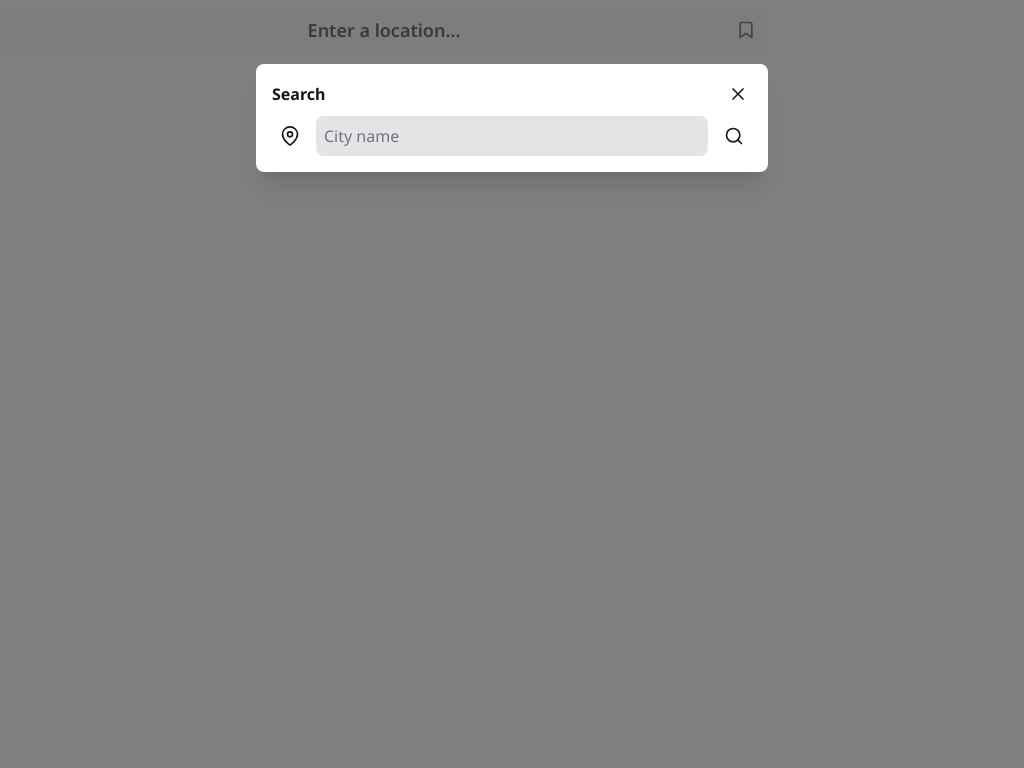
HomeContent › manual city search › searches and renders WeatherCard on submit
The image size is (1024, 768).
Type "Tokyo" into the field with placeholder "City name".
click(512, 136); type("Tokyo")  # box [316,116,708,156]
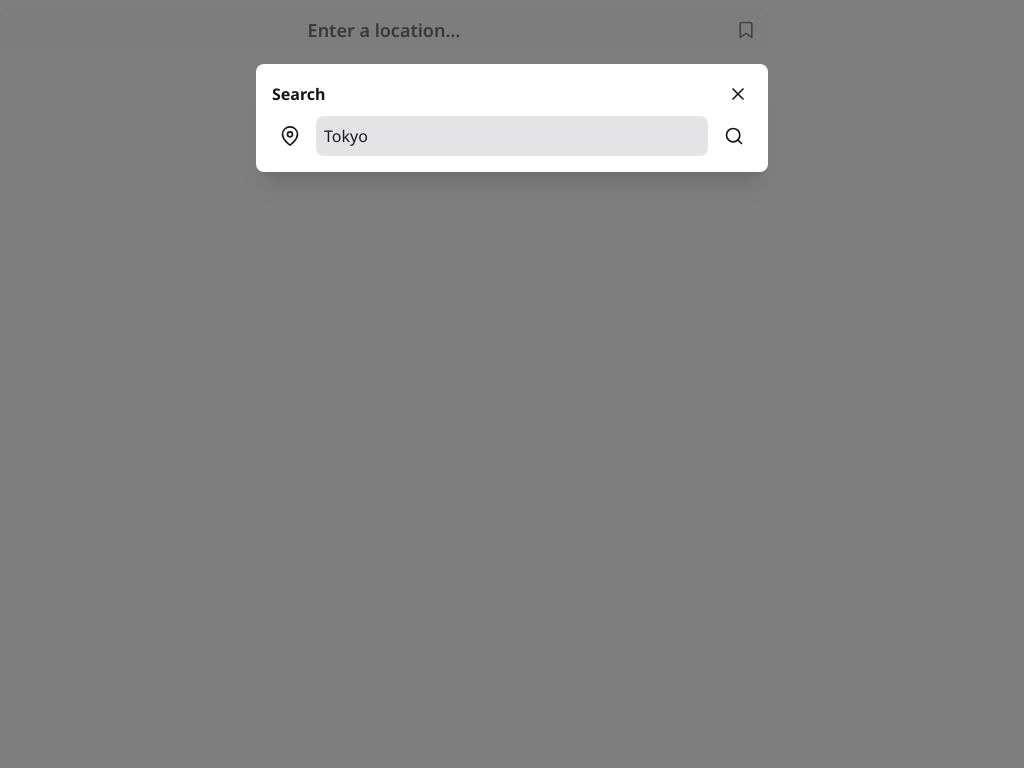
Click the button named "Search".
click(734, 136)  # box [716,116,752,156]
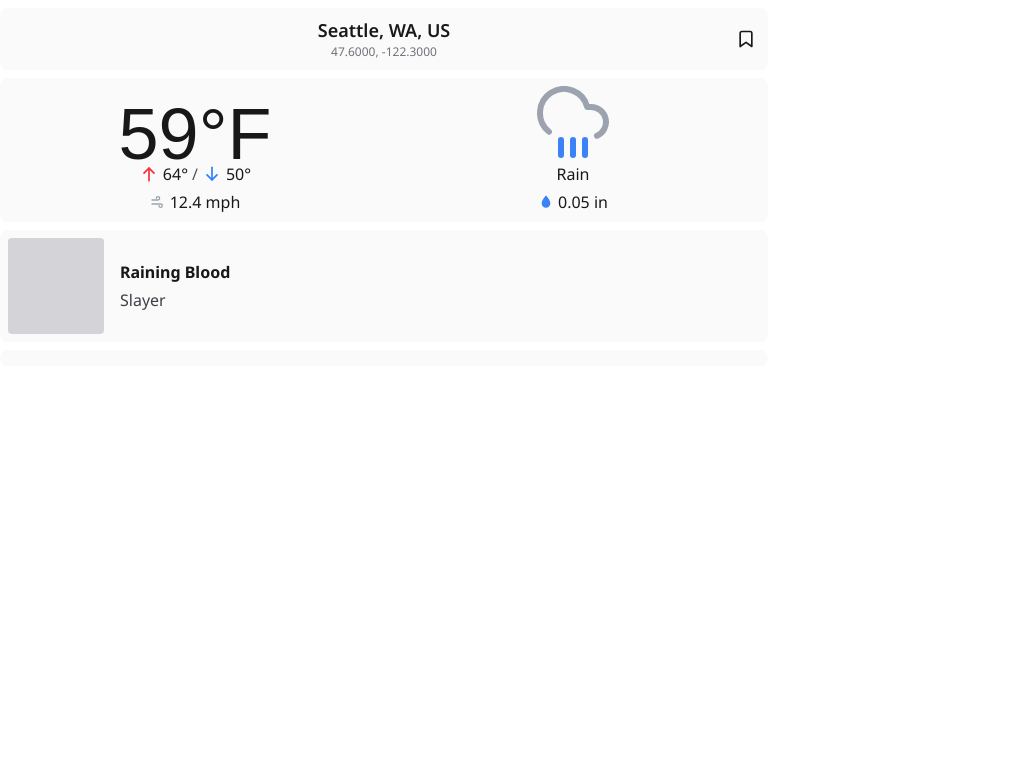
Expected: the text "Raining Blood" is shown, [120,261,230,283]
